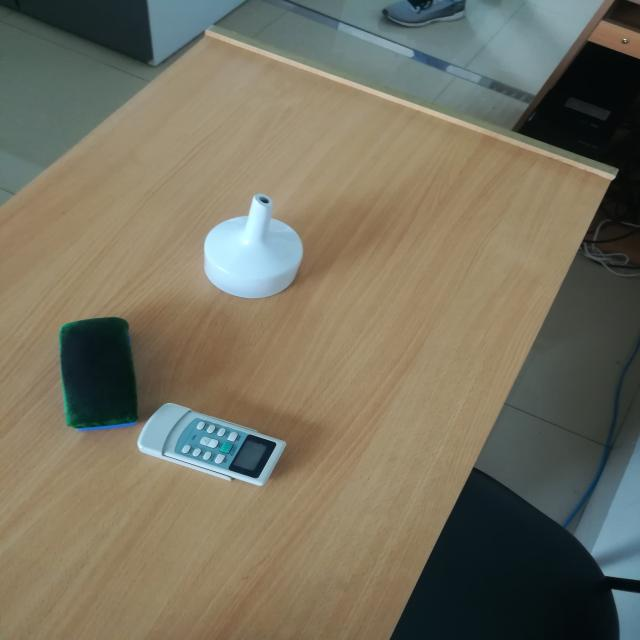Buchner_Funnel: (179, 171, 340, 324)
